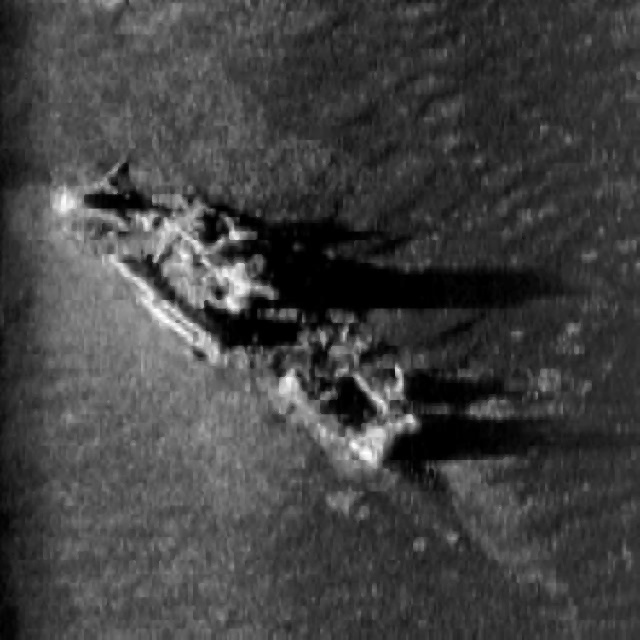Ship: (45, 138, 430, 506)
